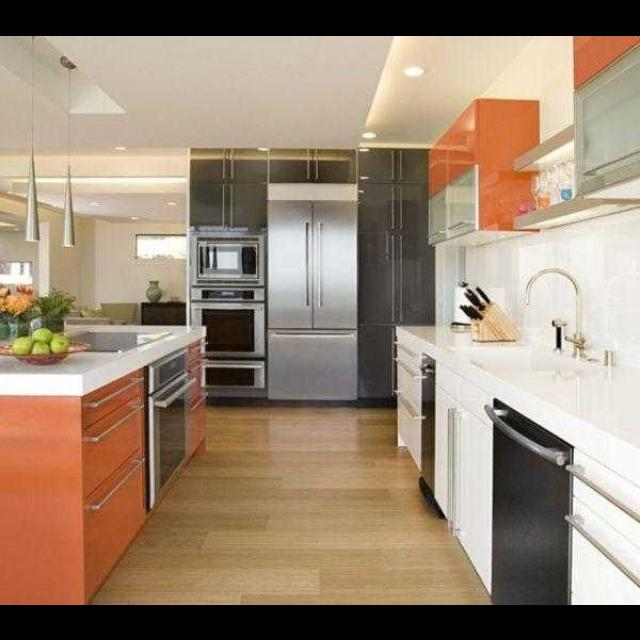Oven: (191, 284, 267, 398)
